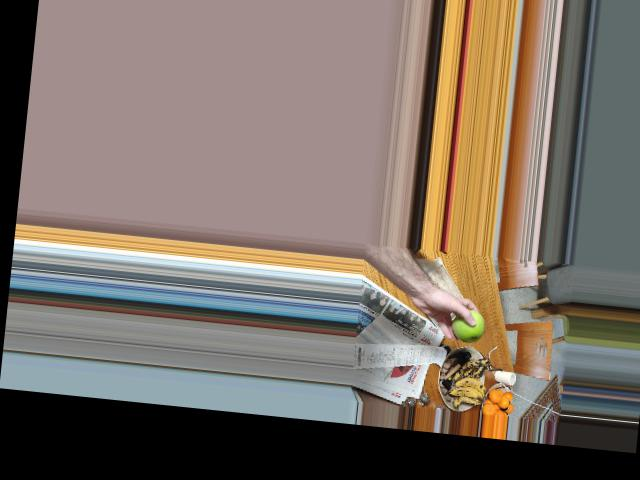apple: (444, 310, 487, 344)
